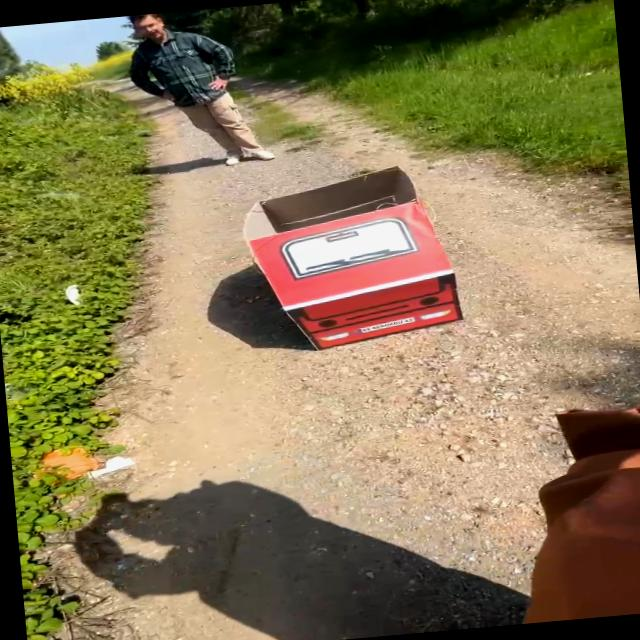red_car: (227, 155, 490, 364)
